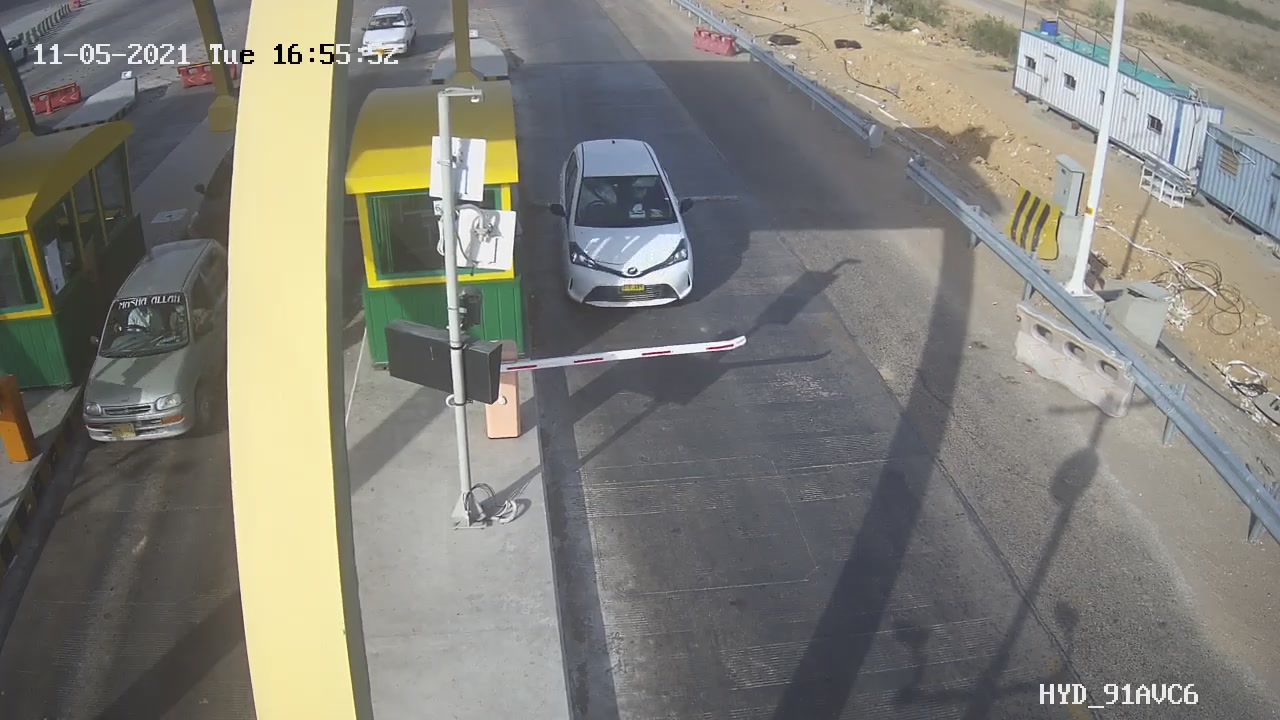F1: (537, 120, 718, 326)
